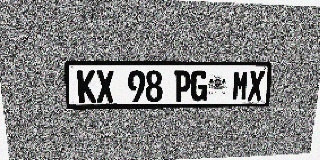8: (146, 70, 163, 102)
9: (128, 70, 145, 102)
G: (191, 70, 208, 101)
K: (77, 70, 96, 103)
M: (232, 70, 249, 101)
P: (174, 70, 191, 101)
X: (96, 70, 114, 103), (247, 70, 265, 100)
